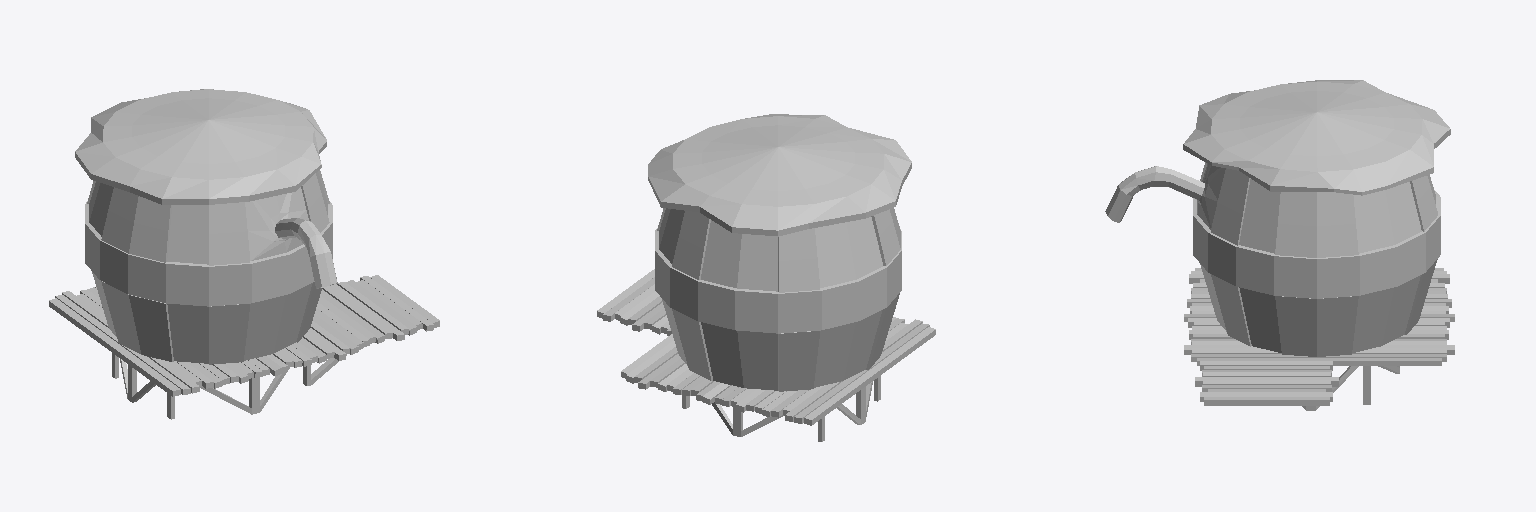
The model's file is ghostWestern_tower_waterTower_d0.obj.
3 views of the same model, side by side, from view 1: azimuth 30°, elevation 25°; view 2: azimuth 150°, elevation 25°; view 3: azimuth 270°, elevation 25° (orthographic).
Parts seen in each view (by area): view 1: waterTower_body, Default, waterTower_legs; view 2: waterTower_body, Default, waterTower_legs; view 3: waterTower_body, Default, waterTower_legs.
Part boxes in pixels (x1,y1,x2,y2): waterTower_body: (75,89,337,364); Default: (49,275,439,396); waterTower_legs: (112,353,338,419); waterTower_body: (648,114,911,391); Default: (597,269,935,425); waterTower_legs: (682,376,880,441); waterTower_body: (1105,80,1450,356); Default: (1184,268,1454,405); waterTower_legs: (1302,366,1399,410).
Size of the model in its own units: 5.29 by 4.47 by 5.46.